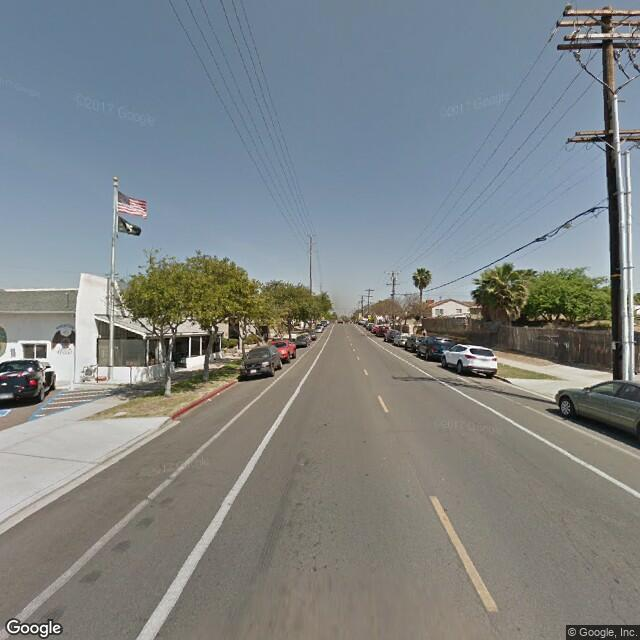litter: (208, 400, 218, 405)
